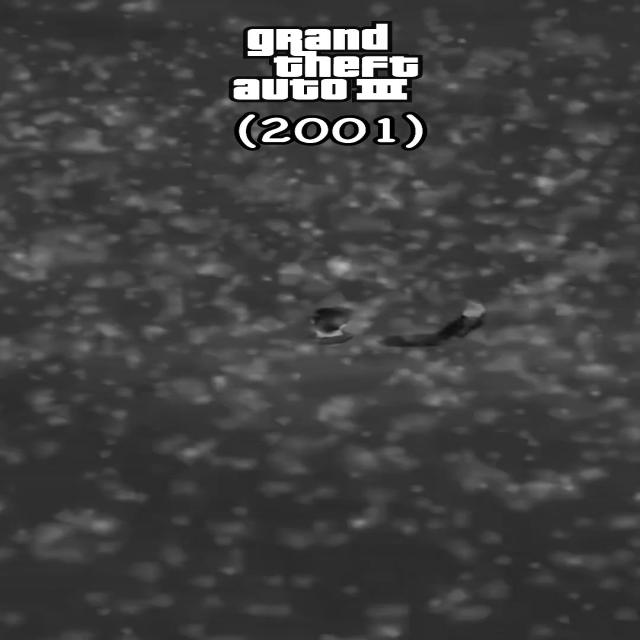drowning: (266, 264, 524, 368)
